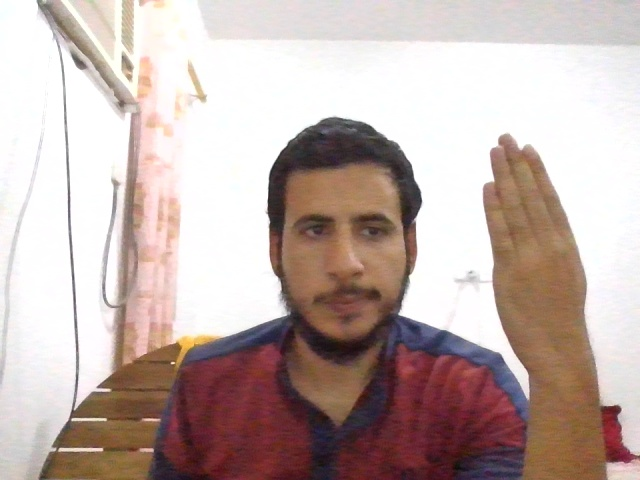Four: (480, 133, 589, 344)
